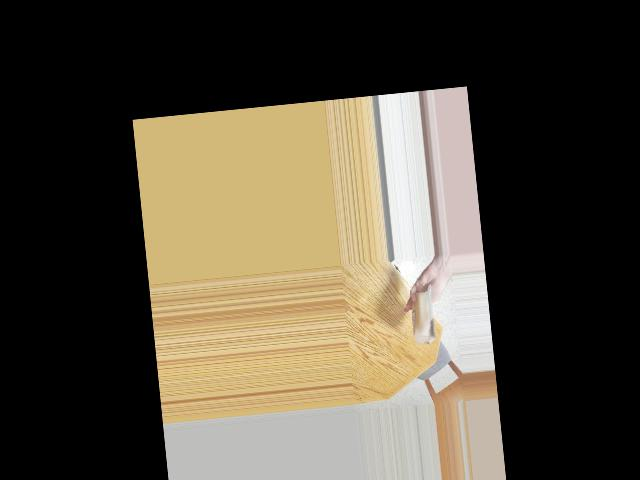cheese: (407, 286, 447, 341)
